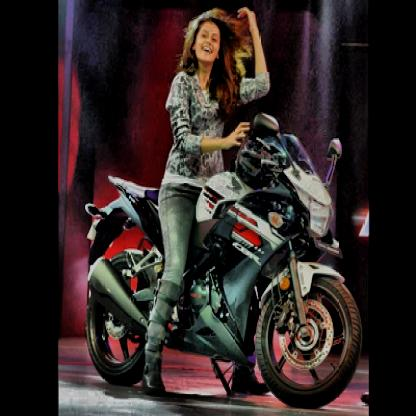not_wear: (188, 17, 228, 76)
